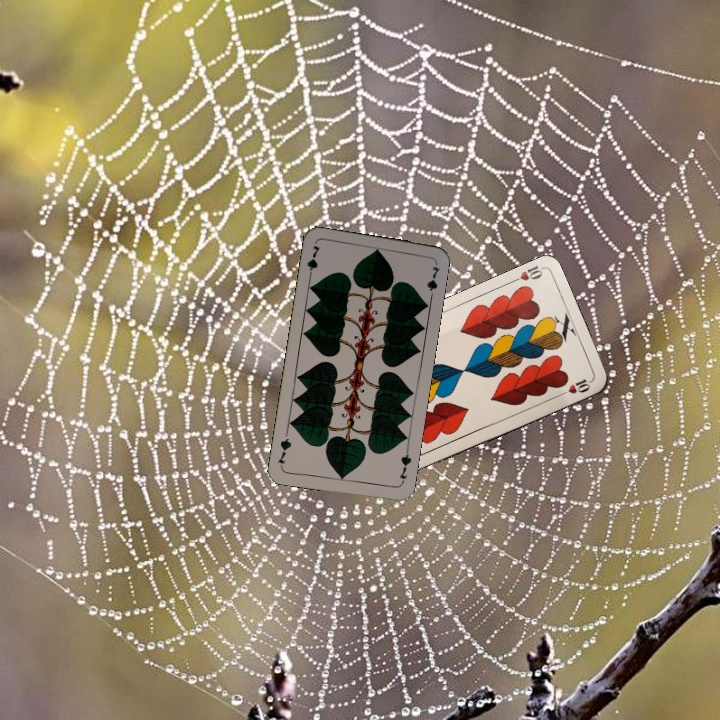G7: (303, 241, 323, 282), (395, 446, 414, 487)
H10: (506, 262, 545, 286)
